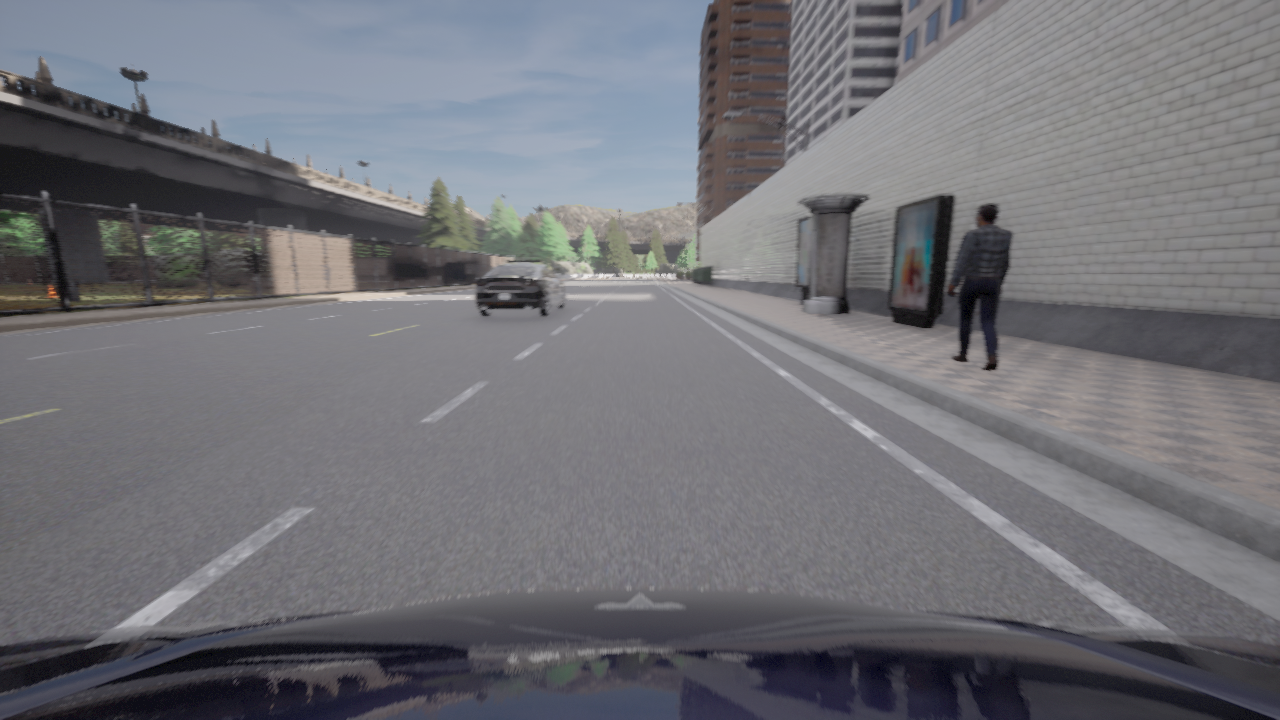cyclist: (0, 588, 1279, 719), (475, 259, 565, 316)
pedestrian: (947, 203, 1012, 370)
